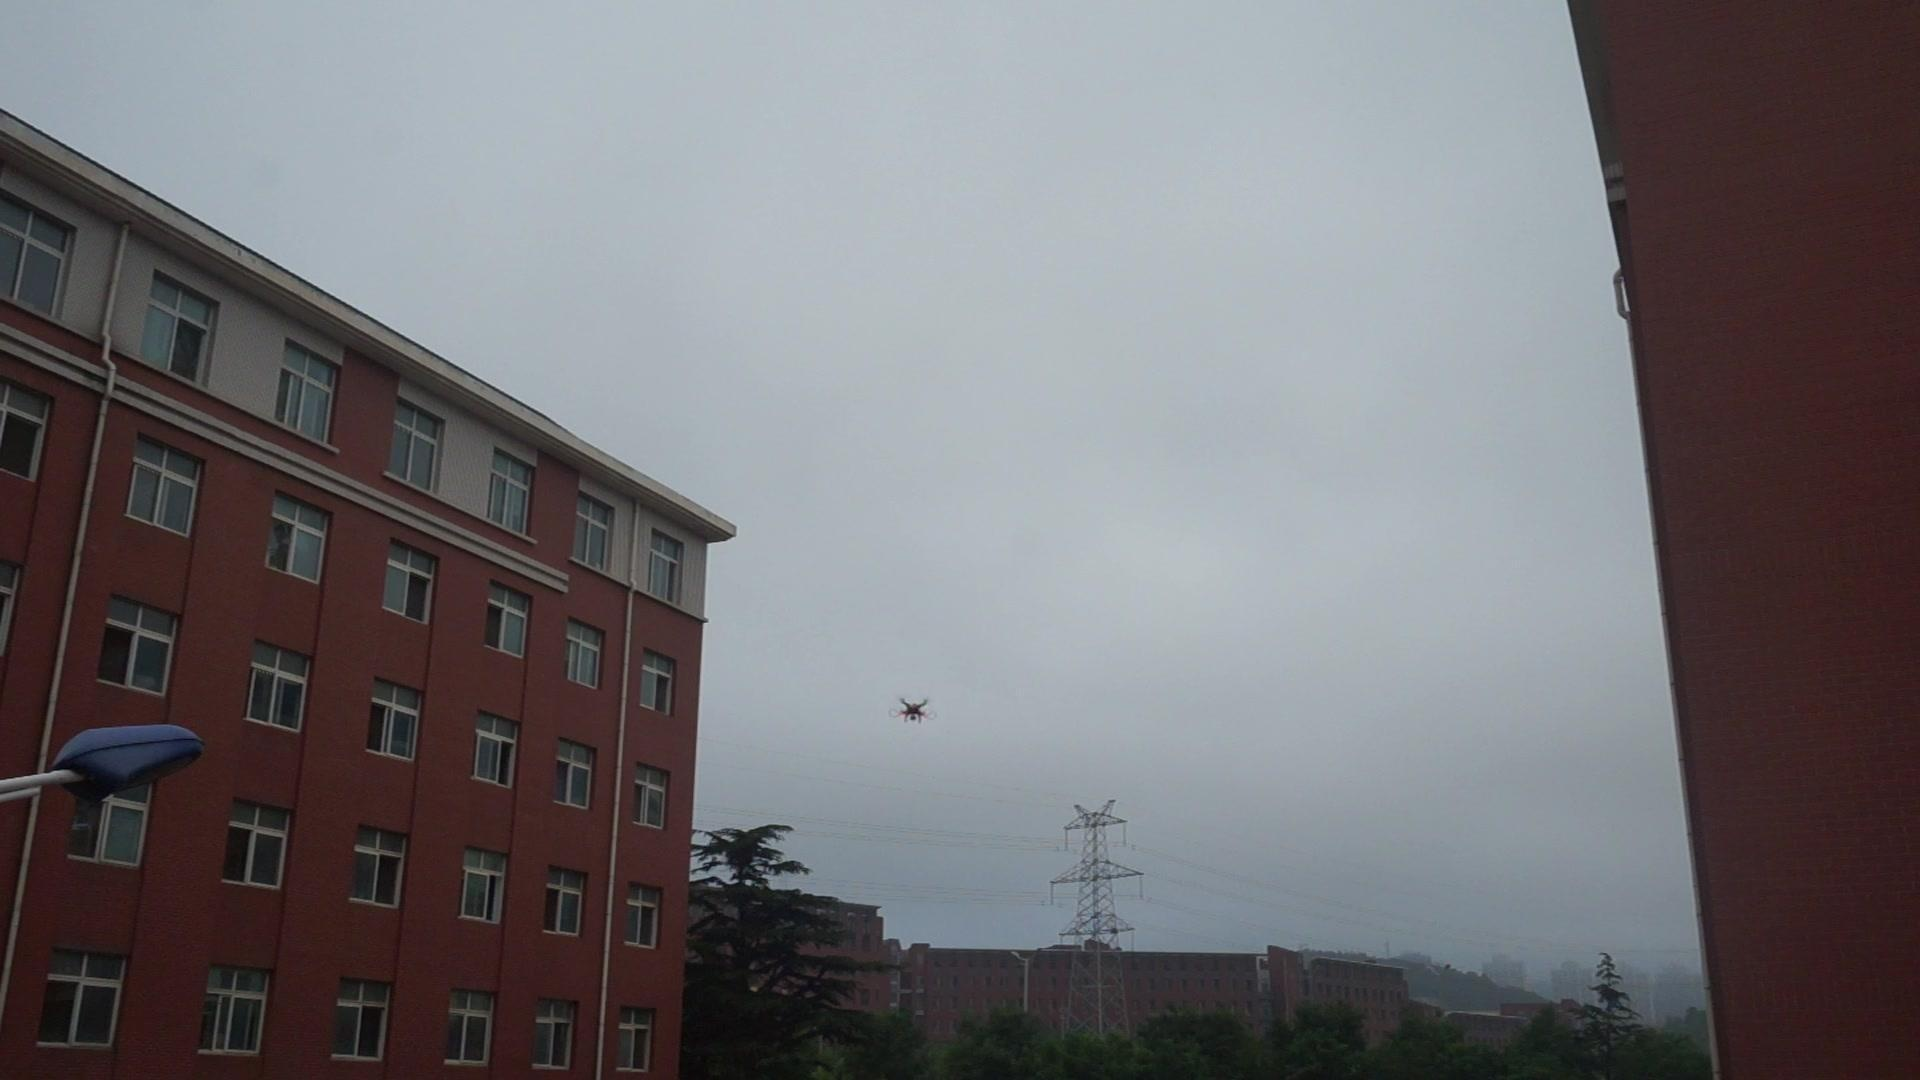UAV: (889, 699, 938, 725)
